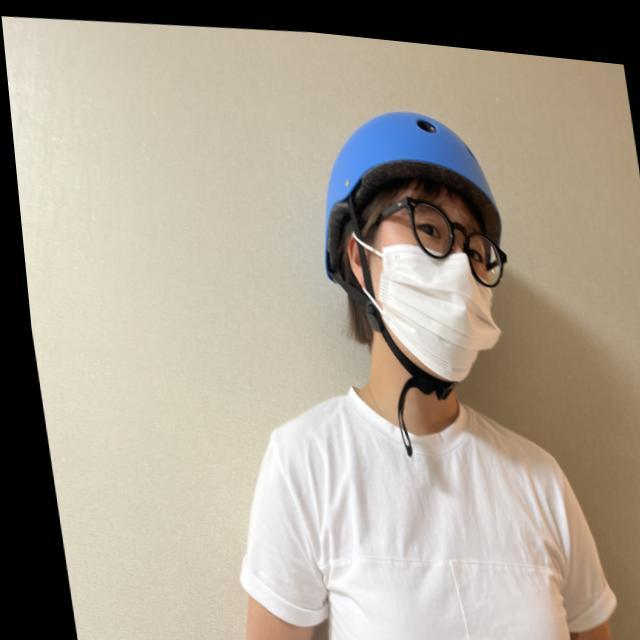Helmet: (318, 107, 512, 391)
